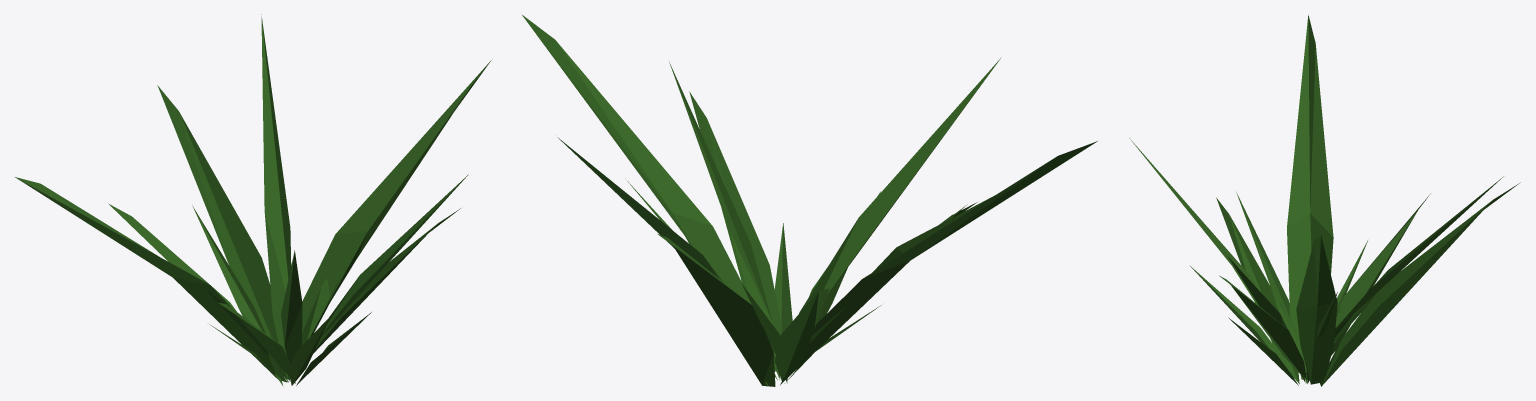
The model's file is grass.glb.
The picture shows the model from 3 angles, left to right: view 1: azimuth 30°, elevation 25°; view 2: azimuth 150°, elevation 25°; view 3: azimuth 270°, elevation 25°; orthographic projection. The views are drawn at different scales.
Visible parts, largest first — view 1: Grass; view 2: Grass; view 3: Grass.
Part boxes in pixels (x1,y1,x2,y2): Grass: (15, 14, 491, 386); Grass: (522, 15, 1097, 386); Grass: (1129, 15, 1520, 386).
Bounding box in the file's own units: 1.85 × 0.9999 × 1.43.
